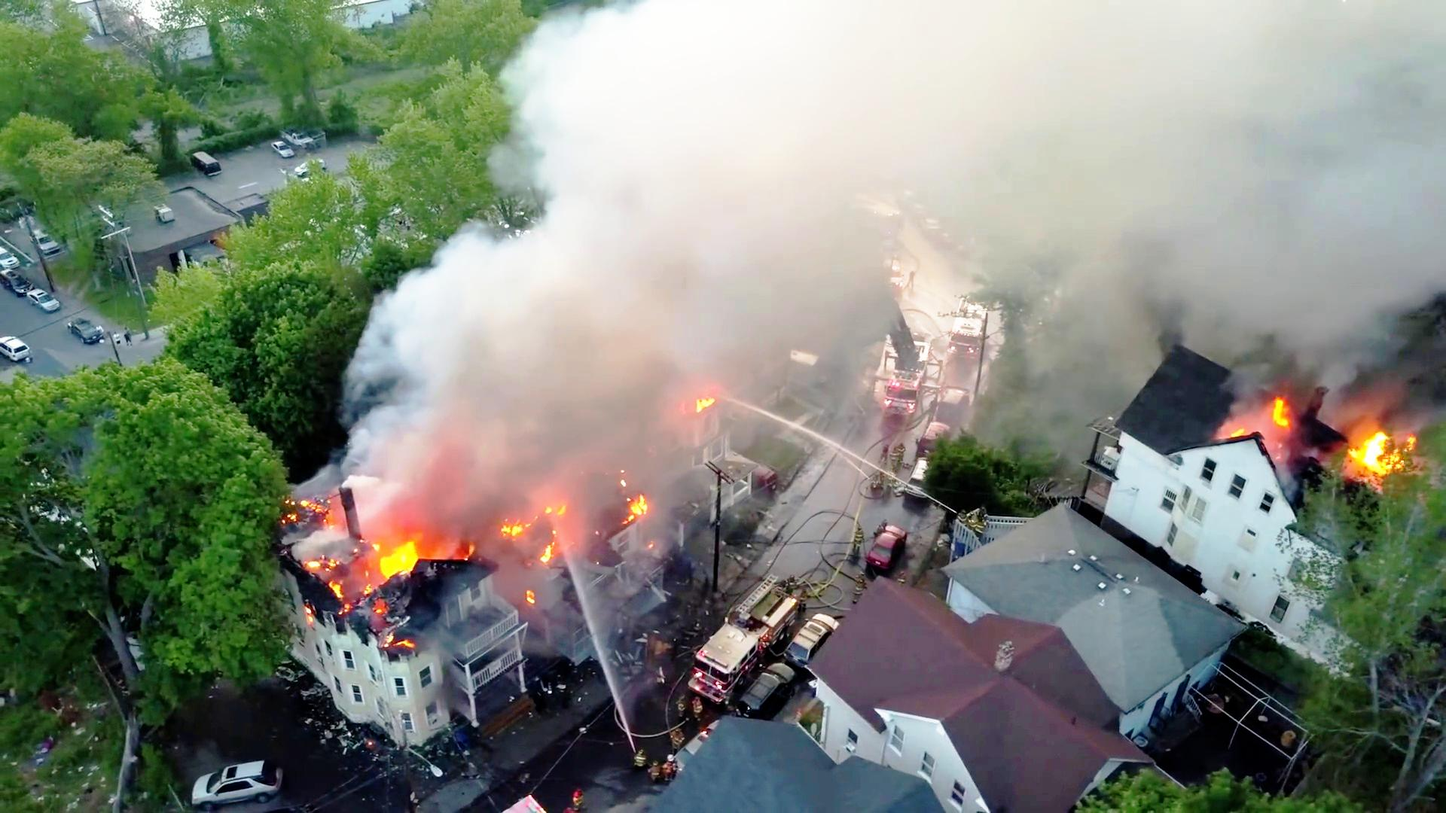fire: (1362, 416, 1418, 533), (377, 544, 426, 592)
smoke: (592, 15, 1439, 276)
